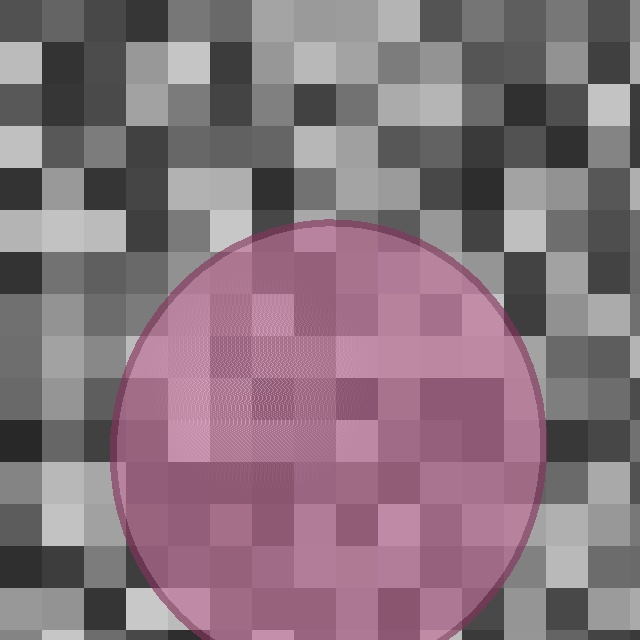lens: (114, 224, 542, 640)
